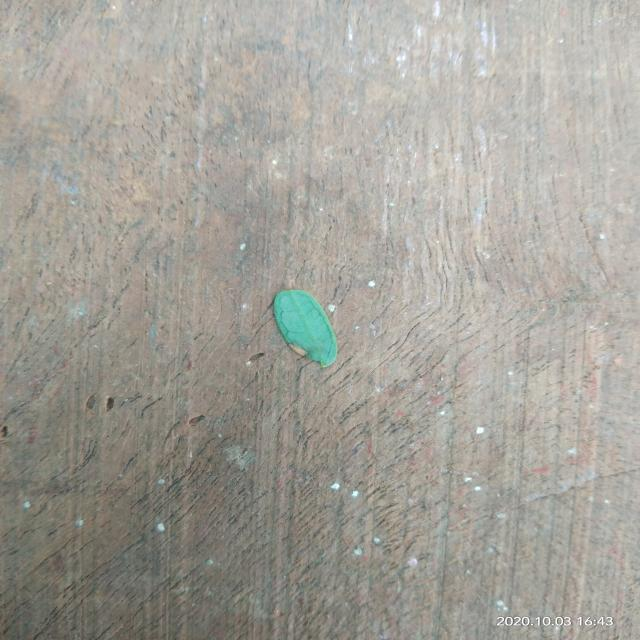tamarind: (273, 290, 337, 368)
